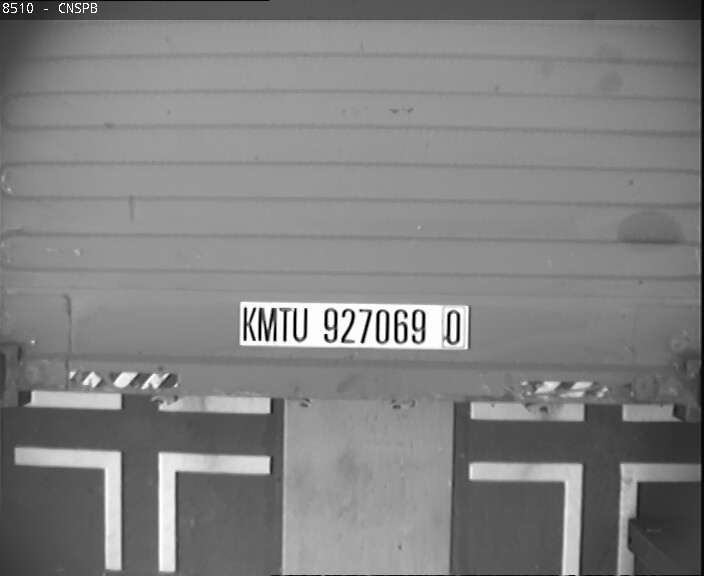groundmarker_1: (14, 444, 269, 572), (469, 462, 704, 576)
